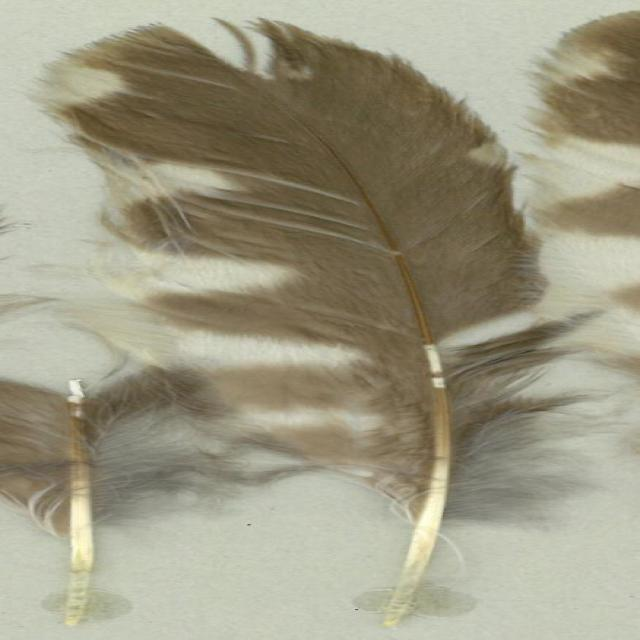feather: (37, 15, 610, 622)
